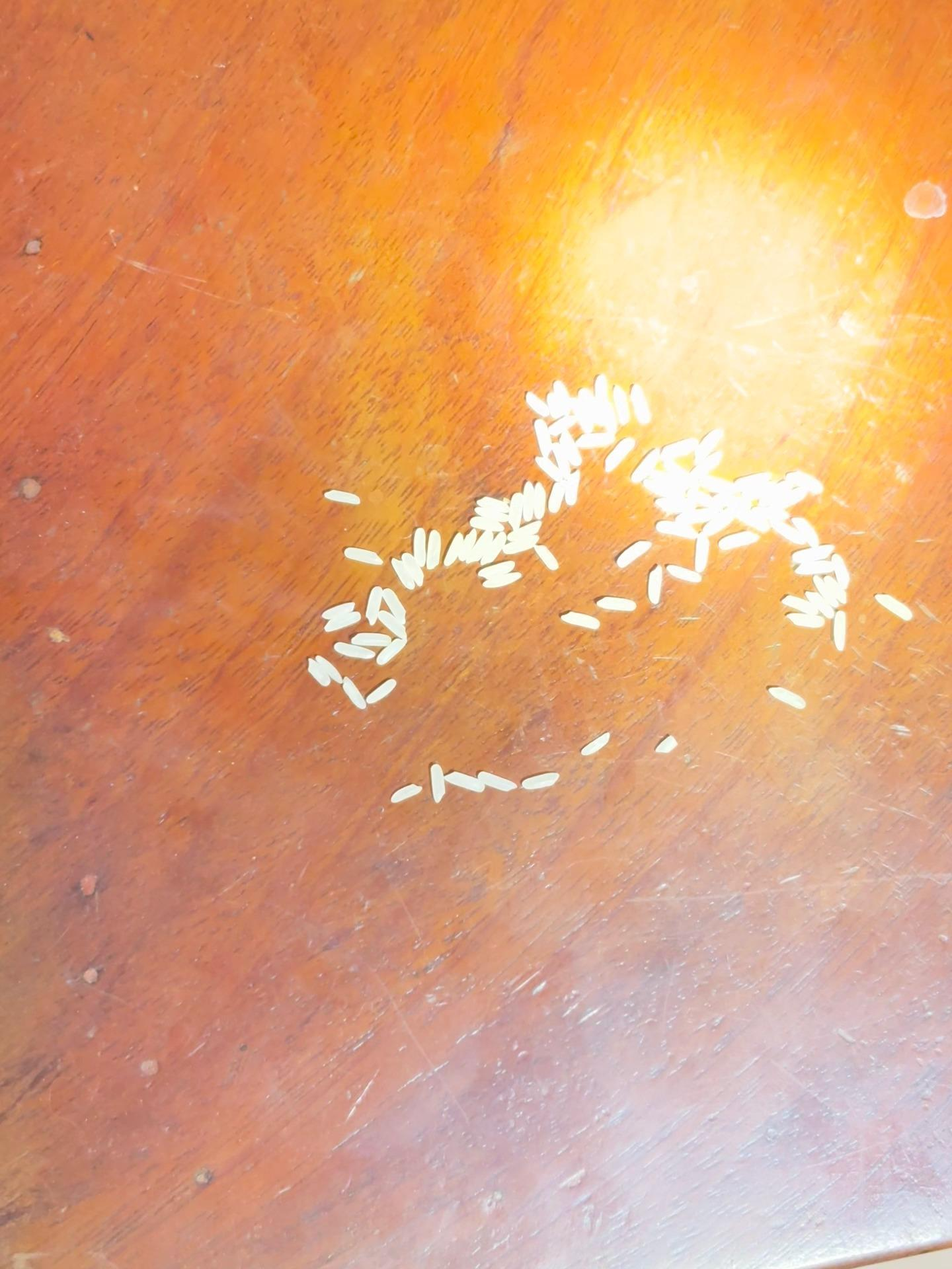Rice-th-y-nh: (590, 374, 618, 430), (643, 470, 686, 500), (603, 437, 636, 474), (874, 592, 914, 621), (693, 428, 724, 465), (630, 448, 661, 485), (642, 564, 669, 605), (615, 540, 653, 569), (677, 504, 721, 529), (701, 507, 735, 539), (628, 384, 654, 425), (689, 533, 715, 574), (827, 611, 853, 652), (770, 519, 808, 547), (689, 451, 723, 482), (608, 385, 634, 425), (769, 485, 809, 511), (656, 519, 699, 543), (785, 470, 824, 496), (660, 436, 699, 462), (424, 764, 450, 803), (661, 458, 692, 490), (792, 515, 822, 548), (444, 770, 485, 794), (768, 685, 807, 710), (735, 471, 771, 497), (735, 507, 771, 533), (382, 588, 407, 625), (559, 430, 584, 467), (466, 531, 494, 564), (812, 575, 840, 608), (477, 770, 517, 793), (572, 394, 595, 434), (793, 543, 836, 564), (805, 590, 835, 620), (480, 532, 507, 565), (377, 611, 407, 640), (504, 533, 540, 557), (782, 594, 818, 618), (666, 562, 702, 586), (718, 530, 759, 551), (562, 609, 601, 631), (363, 587, 385, 626), (342, 676, 367, 710), (376, 638, 406, 666), (483, 570, 523, 591), (390, 558, 416, 590), (334, 641, 375, 661), (350, 630, 391, 650), (519, 481, 539, 522), (796, 557, 835, 578), (324, 611, 361, 633), (315, 655, 343, 684), (534, 456, 565, 482), (366, 679, 397, 705), (597, 594, 637, 614), (509, 519, 542, 543), (478, 559, 515, 580), (507, 493, 527, 531), (533, 419, 553, 457), (786, 610, 824, 630), (529, 482, 549, 520), (577, 430, 615, 450), (401, 553, 424, 586), (551, 381, 572, 417), (822, 575, 848, 604), (581, 732, 611, 757), (306, 659, 332, 687), (522, 772, 560, 791), (832, 554, 852, 590), (547, 480, 568, 514), (551, 443, 572, 477), (533, 544, 559, 571), (344, 547, 383, 565), (457, 529, 478, 562), (563, 470, 582, 506), (525, 391, 550, 418), (411, 528, 428, 567), (425, 530, 442, 569), (444, 533, 464, 566), (391, 783, 422, 804), (548, 414, 576, 437), (469, 515, 504, 533), (546, 391, 568, 419), (321, 602, 355, 620), (476, 496, 510, 513), (325, 490, 361, 504), (474, 506, 506, 521), (655, 735, 678, 754)
